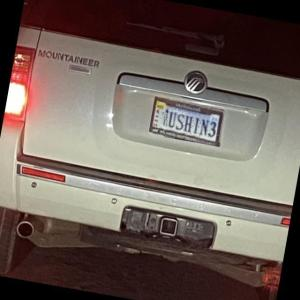Plate: (148, 94, 227, 147)
